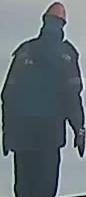gloves: (72, 125, 85, 160)
helmet: (42, 0, 67, 25)
vest: (12, 40, 86, 147)
